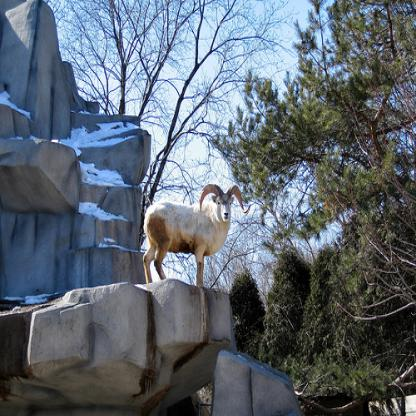sheep: (142, 183, 249, 287)
